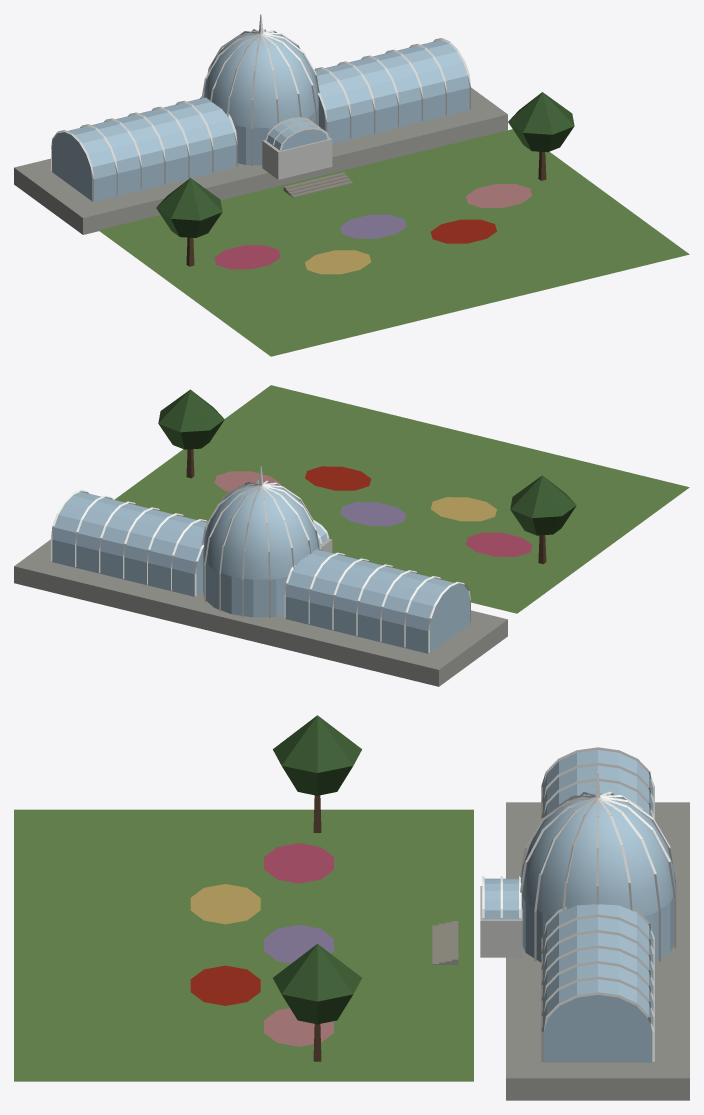
The model's file is desktop.glb.
The picture shows the model from 3 angles, top to bottom: view 1: azimuth 30°, elevation 25°; view 2: azimuth 150°, elevation 25°; view 3: azimuth 270°, elevation 25°; orthographic projection. The views are drawn at different scales.
Parts seen in each view (by area): view 1: lm.flower-conservatory; view 2: lm.flower-conservatory; view 3: lm.flower-conservatory.
Boxes of the visible parts, x1,y1,x2,y2 form: lm.flower-conservatory: (14,14,689,356); lm.flower-conservatory: (14,385,689,686); lm.flower-conservatory: (14,715,689,1100).
Size of the model in its own units: 71 by 22.9 by 73.5.
